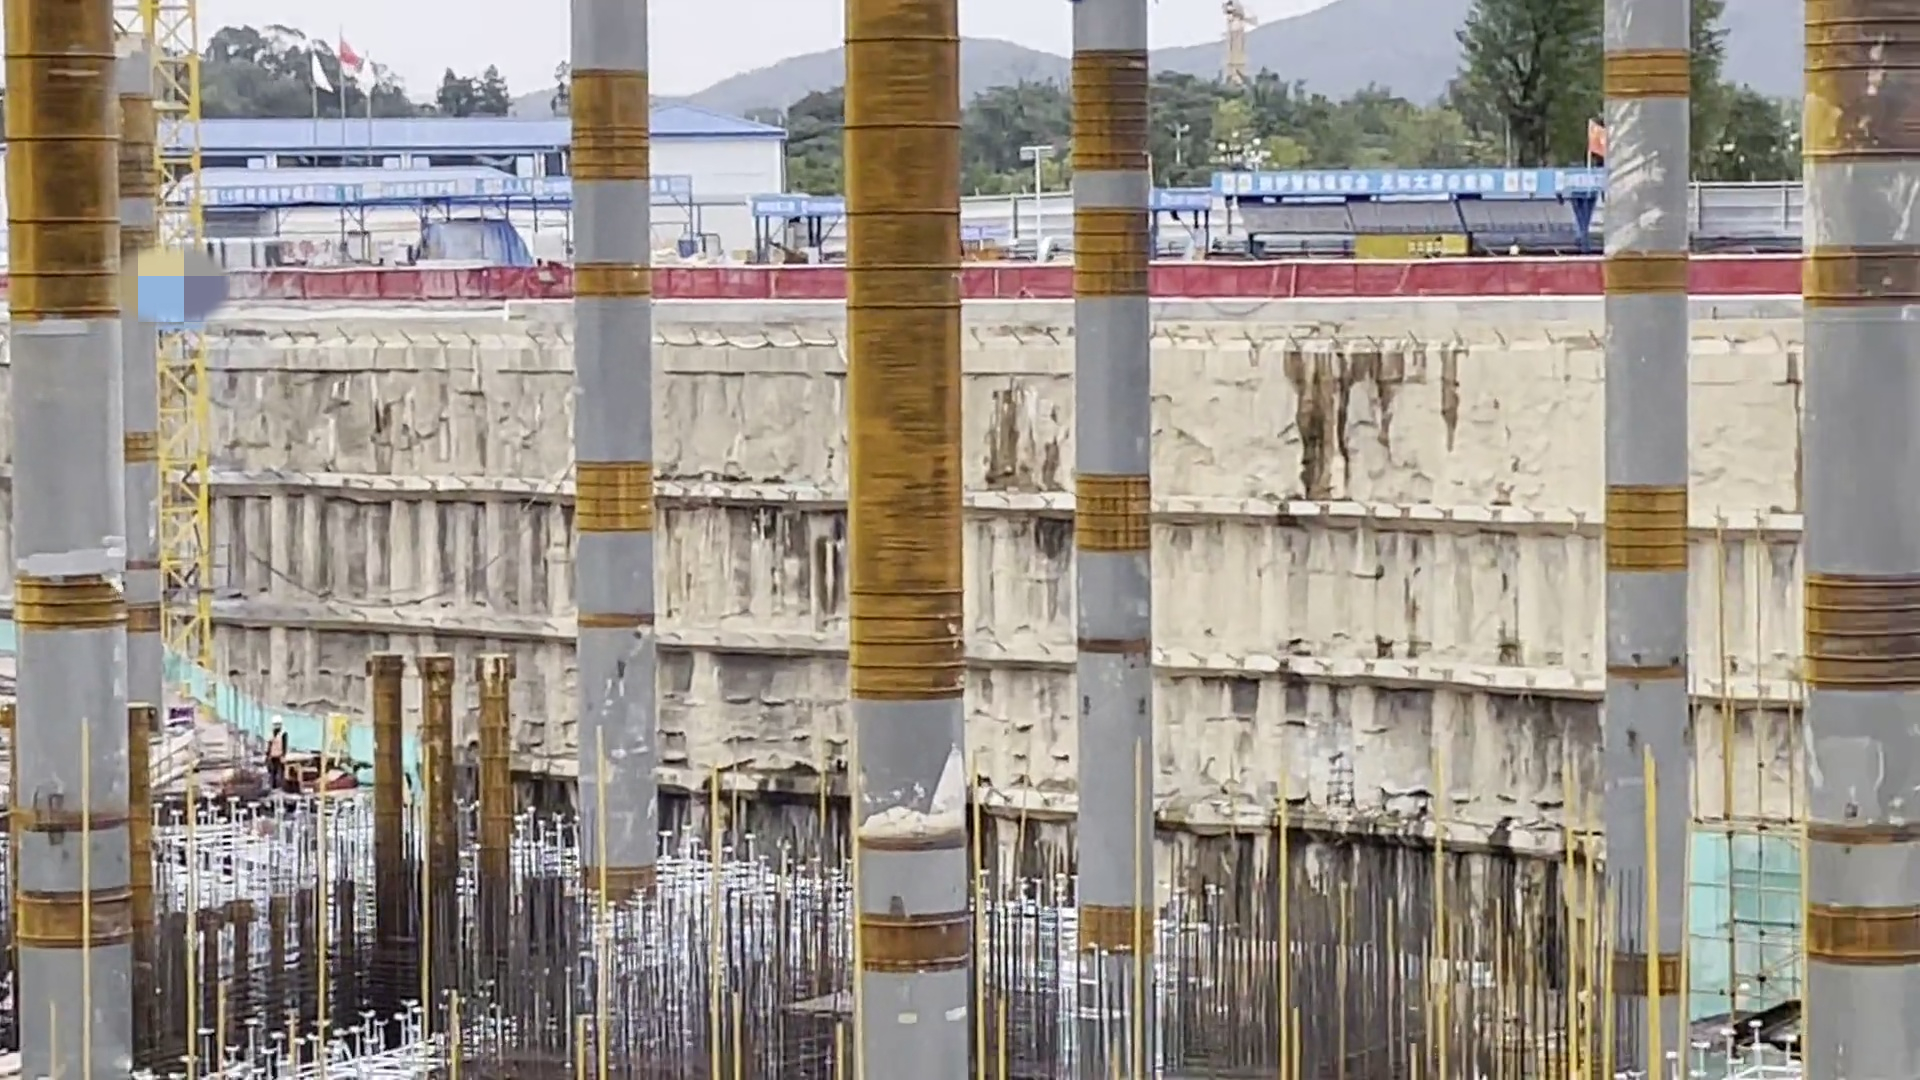fence: (1173, 244, 1596, 320), (224, 248, 581, 332), (649, 250, 852, 316), (1689, 236, 1808, 300), (976, 251, 1083, 322)
helmet: (261, 711, 301, 731)
person: (247, 704, 313, 795)
slogan: (1222, 146, 1598, 216), (216, 161, 568, 211)
vest: (265, 731, 291, 770)
